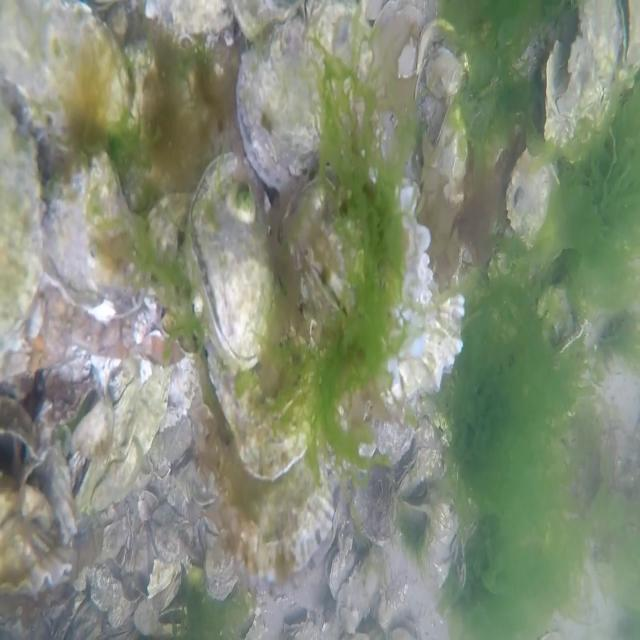Oyster-Closed: (236, 0, 369, 188), (189, 150, 278, 370), (44, 145, 150, 317), (0, 0, 134, 118), (0, 106, 47, 362), (503, 142, 555, 250), (430, 96, 470, 202), (396, 451, 427, 492), (331, 480, 346, 533)
Oyster-Indeterminate: (286, 173, 466, 406), (204, 276, 324, 482), (213, 387, 335, 579), (75, 368, 171, 508), (543, 0, 619, 149), (0, 514, 73, 594), (414, 18, 466, 112), (348, 461, 401, 546), (334, 552, 383, 629), (368, 402, 419, 461), (0, 475, 50, 532), (204, 522, 238, 602)
Oyster-Open: (0, 394, 44, 491), (324, 539, 359, 598), (618, 0, 640, 81), (401, 486, 432, 516)
